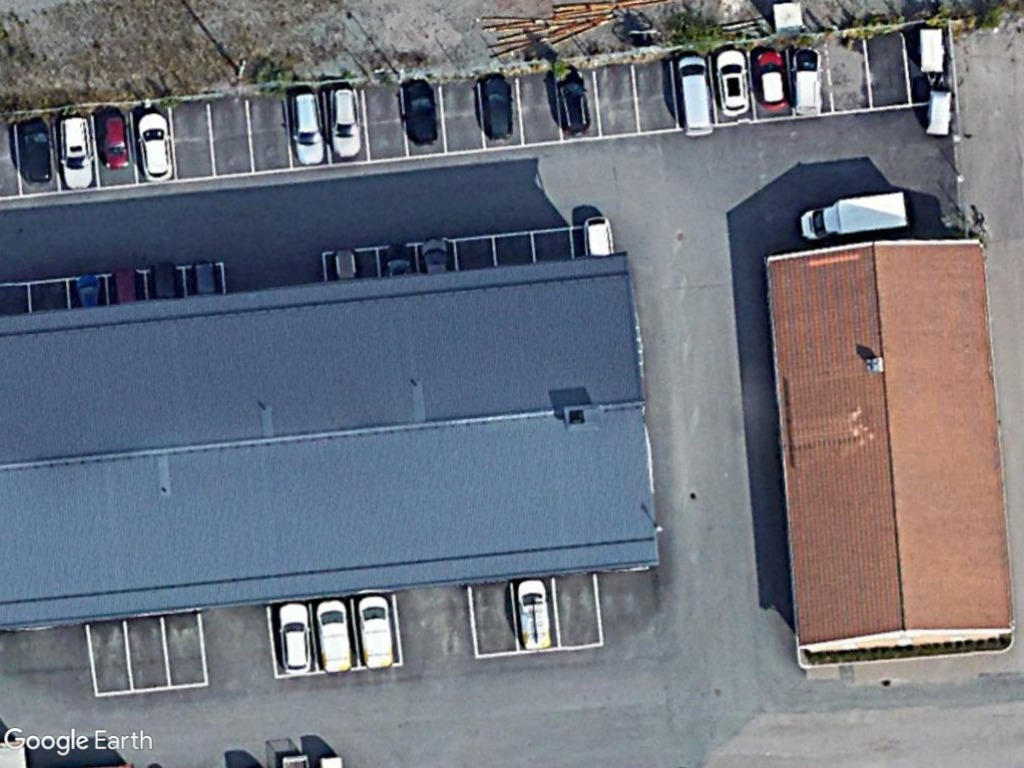car: (133, 107, 178, 187), (53, 113, 98, 192), (321, 82, 366, 159), (512, 576, 555, 653), (275, 598, 316, 678), (288, 89, 329, 168), (15, 114, 57, 186), (713, 46, 754, 119), (552, 67, 596, 135), (400, 79, 442, 147), (788, 47, 827, 118), (479, 73, 517, 141), (753, 48, 790, 114), (98, 109, 133, 172)
truck: (795, 188, 914, 244)
van: (352, 591, 399, 669), (673, 50, 716, 135), (315, 600, 356, 676)
